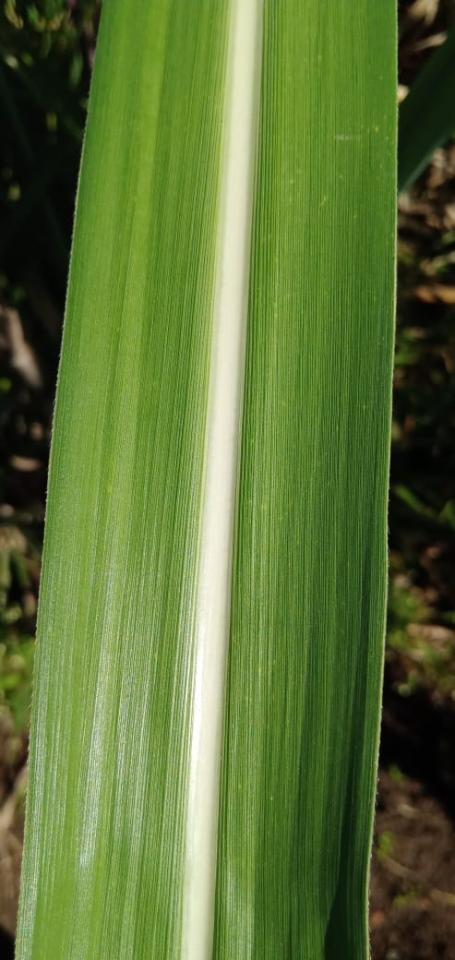Healthy: (16, 0, 394, 959)
